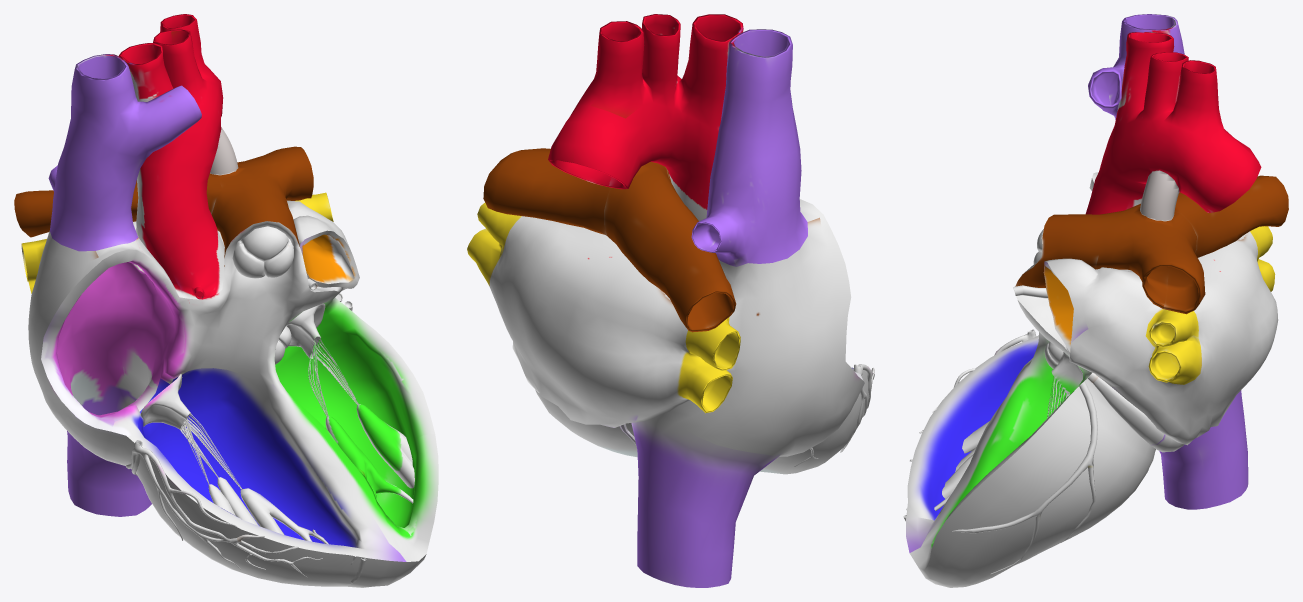
File: plsdontdelete2.glb
The picture shows the model from 3 angles, left to right: view 1: azimuth 30°, elevation 25°; view 2: azimuth 150°, elevation 25°; view 3: azimuth 270°, elevation 25°; orthographic projection. The views are drawn at different scales.
Visible parts, largest first — view 1: heart_inside_01; view 2: heart_inside_01; view 3: heart_inside_01.
Boxes of the visible parts, left/top/right/bottom form: heart_inside_01: left=14, top=14, right=438, bottom=587; heart_inside_01: left=467, top=14, right=874, bottom=587; heart_inside_01: left=903, top=14, right=1288, bottom=587.
Bounding box in the file's own units: 0.0804 × 0.1194 × 0.0859.
1 material, 1 textured.
